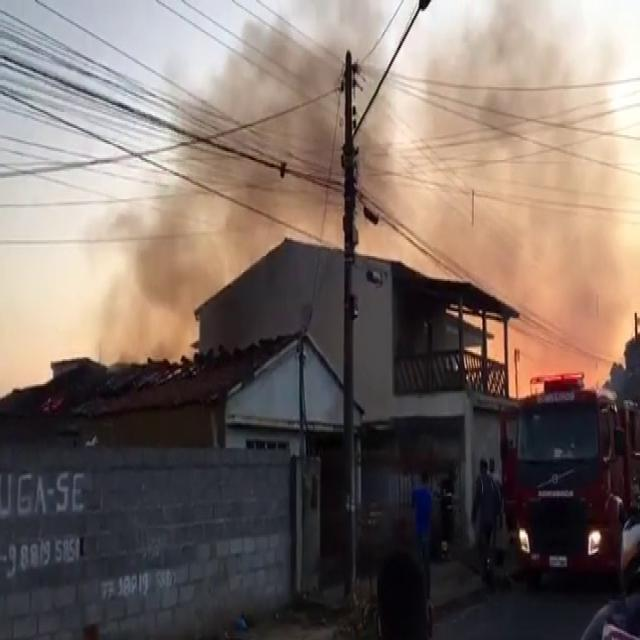Smoke: (182, 28, 626, 350)
